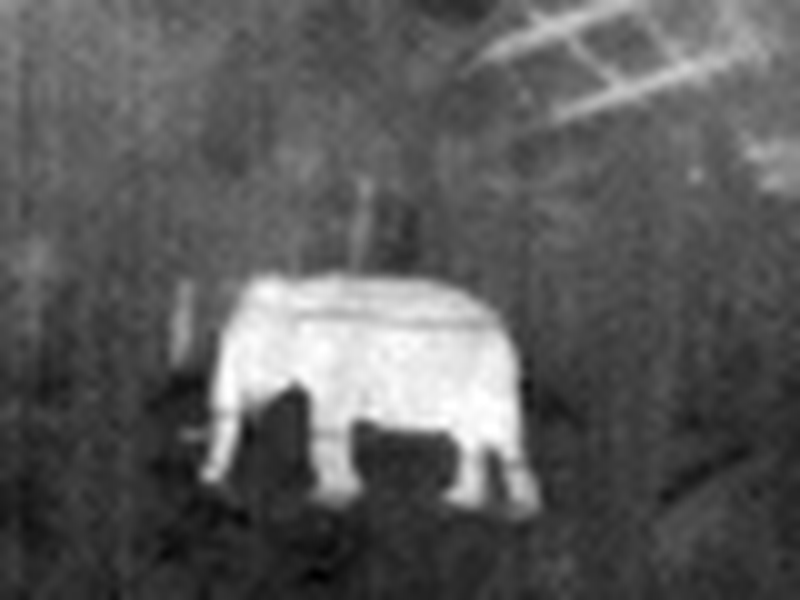elephant: (203, 265, 543, 535)
